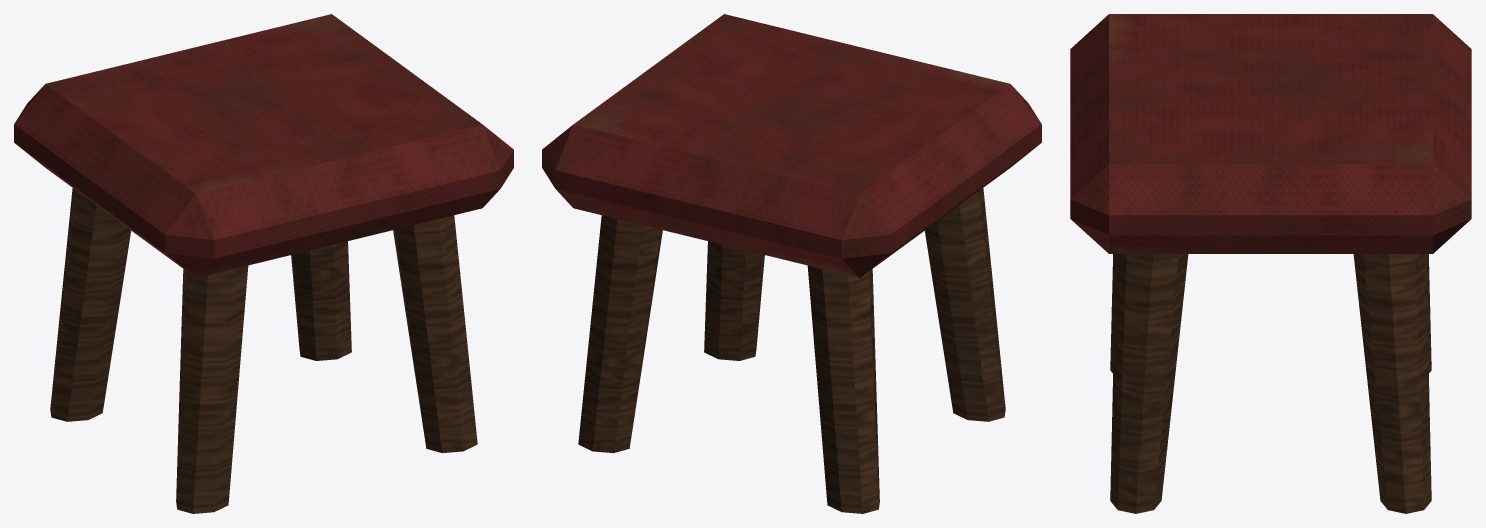
File: Footstool01.fbx
3 renders of one model, left to right at view 1: azimuth 30°, elevation 25°; view 2: azimuth 150°, elevation 25°; view 3: azimuth 270°, elevation 25°, orthographic. The views are drawn at different scales.
Parts seen in each view (by area): view 1: foot_stool_top.001, foot_stool_leg.003; view 2: foot_stool_top.001, foot_stool_leg.003; view 3: foot_stool_top.001, foot_stool_leg.003.
Boxes of the visible parts, x1=… form: foot_stool_top.001: x1=14, y1=14, x2=513, y2=277; foot_stool_leg.003: x1=50, y1=188, x2=477, y2=513; foot_stool_top.001: x1=542, y1=14, x2=1041, y2=277; foot_stool_leg.003: x1=578, y1=188, x2=1005, y2=513; foot_stool_top.001: x1=1070, y1=14, x2=1471, y2=253; foot_stool_leg.003: x1=1110, y1=254, x2=1431, y2=513.
Bounding box in the file's own units: 0.335 × 0.2963 × 0.3109.
Materials: 2 (2 with a texture image).
